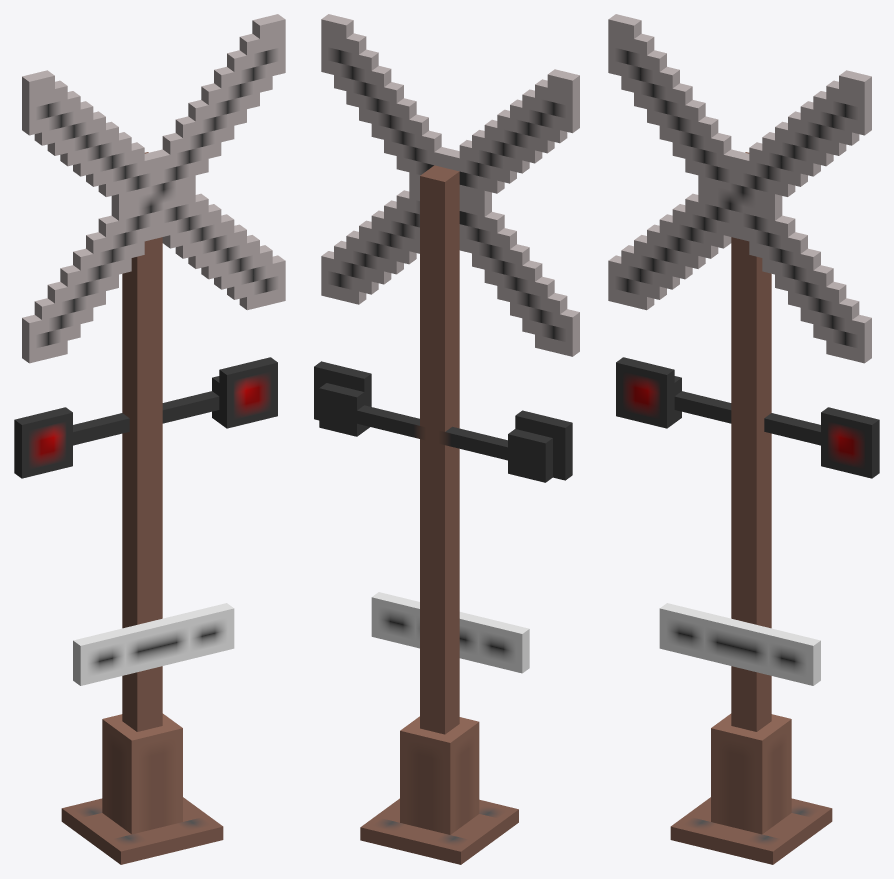
The model's file is train signal.obj.
3 renders of one model, left to right at view 1: azimuth 30°, elevation 25°; view 2: azimuth 150°, elevation 25°; view 3: azimuth 330°, elevation 25°, orthographic.
Size of the model in its own units: 20 by 59 by 8.
1 material, 1 textured.
